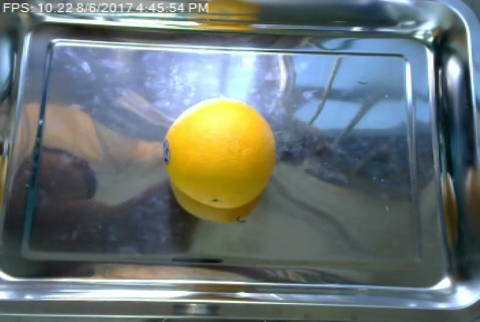Orange: (161, 99, 274, 210)
